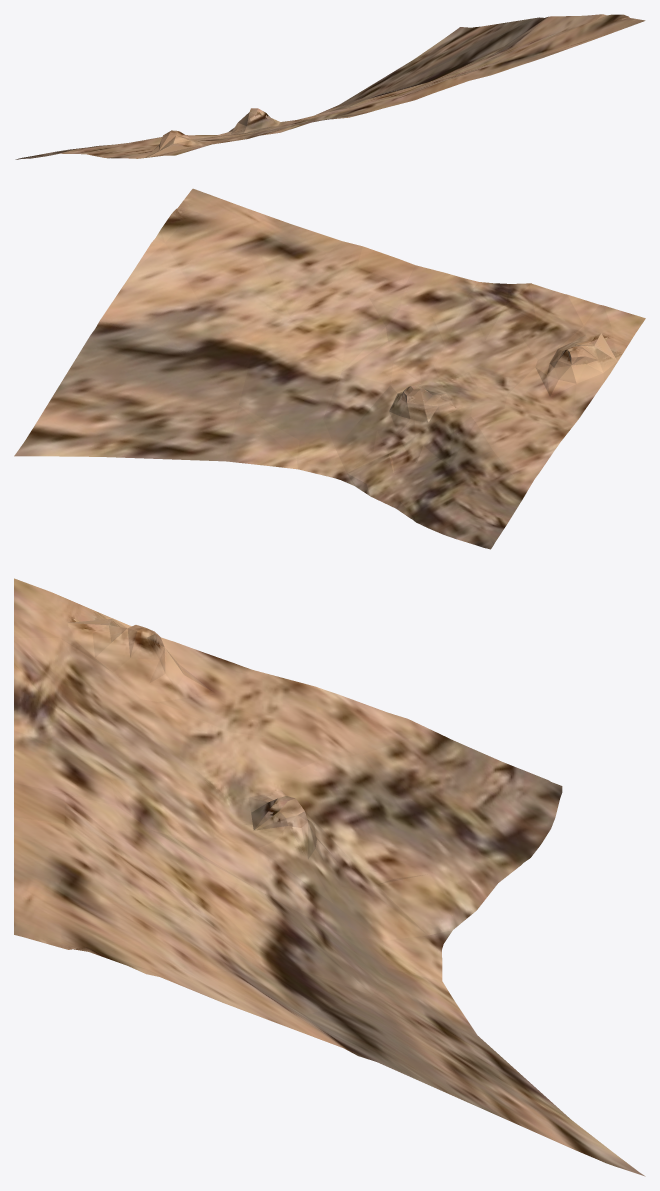
3 views of the same model, one above another, from view 1: azimuth 30°, elevation 25°; view 2: azimuth 150°, elevation 25°; view 3: azimuth 270°, elevation 25° (orthographic). The views are drawn at different scales.
Bounding box in the file's own units: 1.04 × 0.3015 × 0.7142.
Materials: 2 (2 with a texture image).
